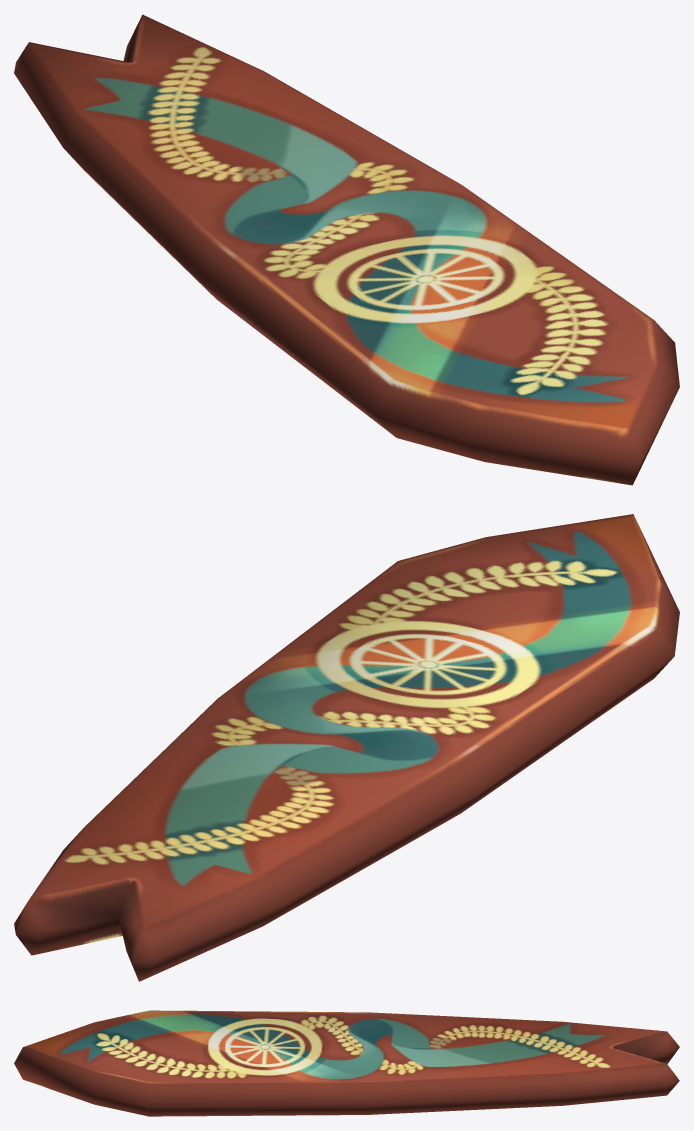
Rendered from gunner_bike2.FBX.
The picture shows the model from 3 angles, top to bottom: view 1: azimuth 30°, elevation 25°; view 2: azimuth 150°, elevation 25°; view 3: azimuth 270°, elevation 25°; orthographic projection. The views are drawn at different scales.
Visible parts, largest first — view 1: bike2; view 2: bike2; view 3: bike2.
Boxes of the visible parts, x1,y1,x2,y2 form: bike2: (14, 14, 679, 485); bike2: (14, 514, 679, 981); bike2: (14, 1010, 679, 1116).
Size of the model in its own units: 101 by 17.8 by 331.
